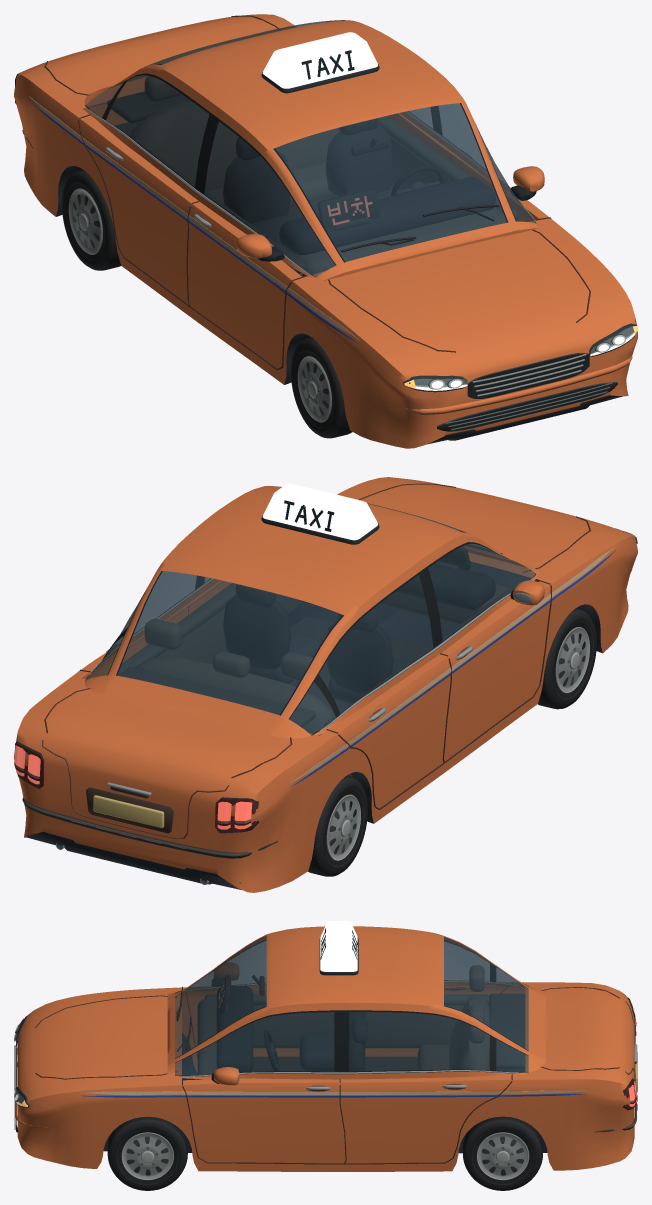
File: taxi_real.glb
3 renders of one model, top to bottom at view 1: azimuth 30°, elevation 25°; view 2: azimuth 150°, elevation 25°; view 3: azimuth 270°, elevation 25°, orthographic. The views are drawn at different scales.
Parts seen in each view (by area): view 1: body, wheelFR, wheelRR, taxiRoofLamp, lampFront, fleetStripe; view 2: body, wheelRR, wheelFR, taxiRoofLamp, lampRear, fleetStripe; view 3: body, wheelRL, wheelFL, taxiRoofLamp, fleetStripe.
Part boxes in pixels (x1=…): body: x1=14, y1=14, x2=637, y2=448; wheelFR: x1=291, y1=337, x2=352, y2=438; wheelRR: x1=62, y1=169, x2=120, y2=270; taxiRoofLamp: x1=262, y1=32, x2=377, y2=88; lampFront: x1=327, y1=196, x2=637, y2=390; fleetStripe: x1=30, y1=101, x2=358, y2=343; body: x1=14, y1=477, x2=637, y2=892; wheelRR: x1=308, y1=775, x2=367, y2=876; wheelFR: x1=538, y1=608, x2=596, y2=709; taxiRoofLamp: x1=262, y1=483, x2=377, y2=540; lampRear: x1=14, y1=745, x2=252, y2=829; fleetStripe: x1=291, y1=550, x2=615, y2=786; body: x1=14, y1=926, x2=637, y2=1171; wheelRL: x1=463, y1=1116, x2=542, y2=1190; wheelFL: x1=107, y1=1116, x2=187, y2=1190; taxiRoofLamp: x1=320, y1=921, x2=357, y2=971; fleetStripe: x1=80, y1=1094, x2=585, y2=1097.
Bounding box in the file's own units: 2.07 × 1.75 × 4.76.
